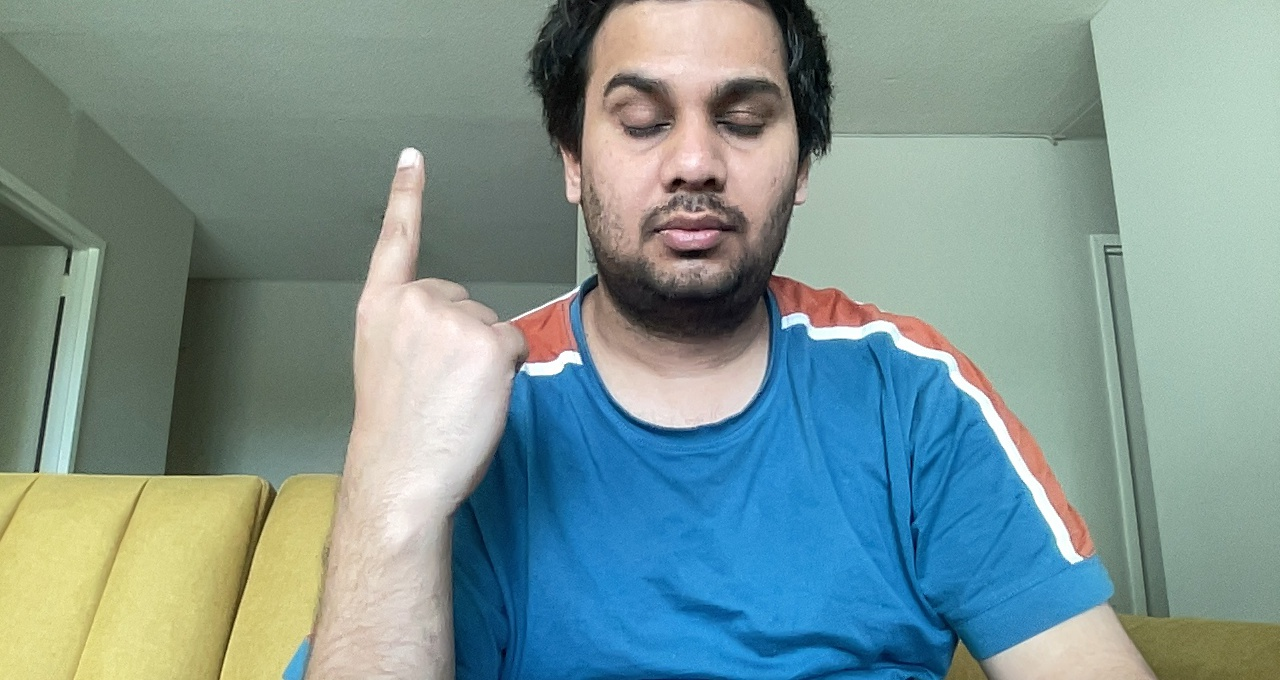fingerup: (338, 138, 535, 500)
